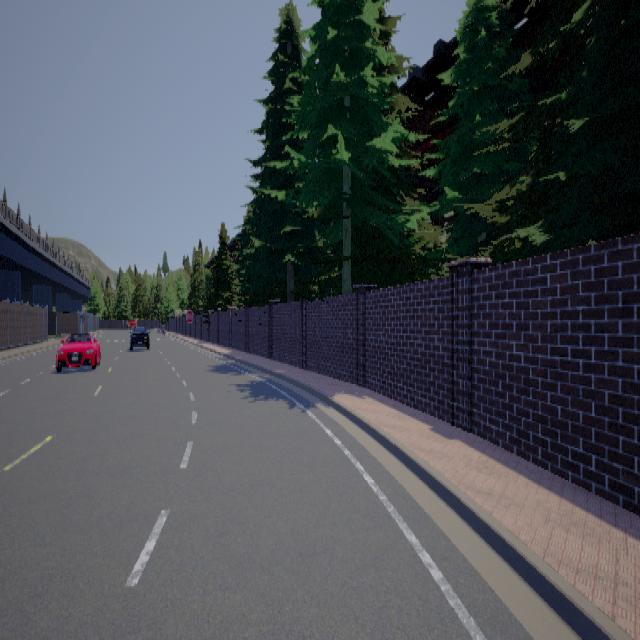traffic_sign: (185, 308, 193, 322)
vehicle: (54, 332, 100, 370), (125, 318, 150, 349)
